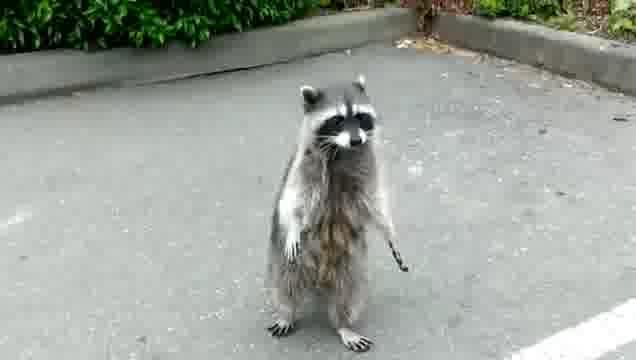raccoon: (264, 65, 413, 360)
